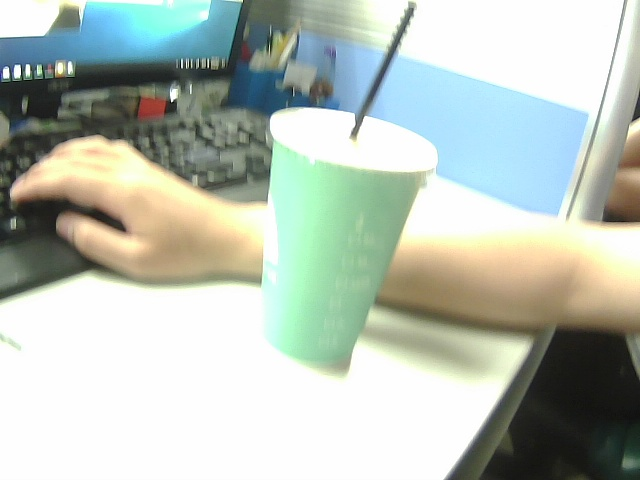beverage: (239, 2, 474, 395)
